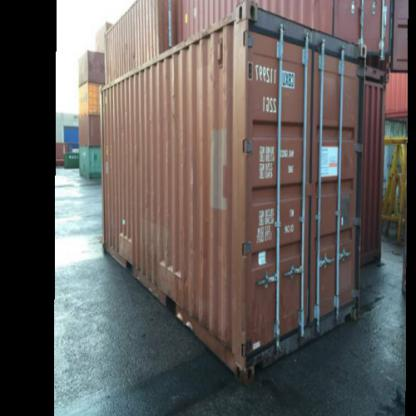Damage: (148, 252, 182, 280), (113, 215, 140, 241)
